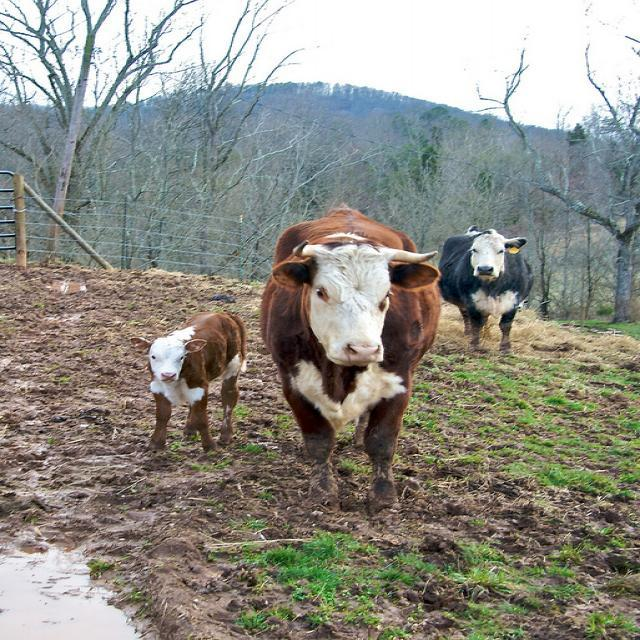cow: (266, 184, 430, 515), (124, 309, 247, 456), (438, 222, 534, 356)
